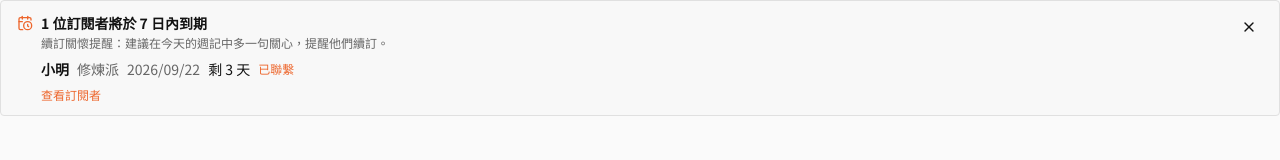
it: 橫幅：過期挽回名單與「已聯繫」 › ack 失敗 → 顯示可理解錯誤，不 crash
Click the button with test id "ack-subscriber" at (276, 69), box [258,59,294,79]
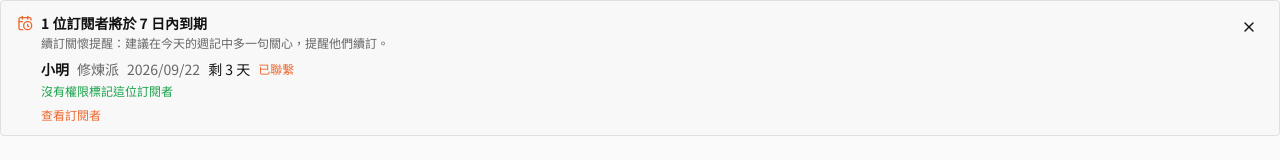
Check: the text with test id "ack-error" reads "沒有權限標記這位訂閱者", box [41,82,173,99]
